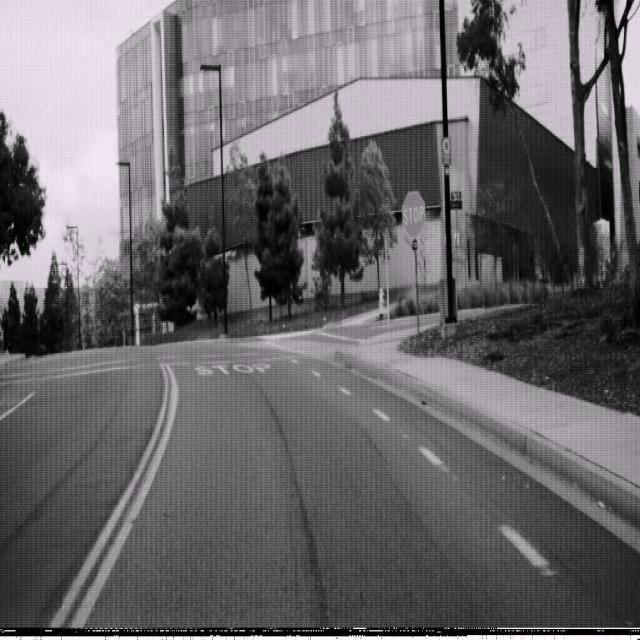stop: (401, 190, 426, 239)
